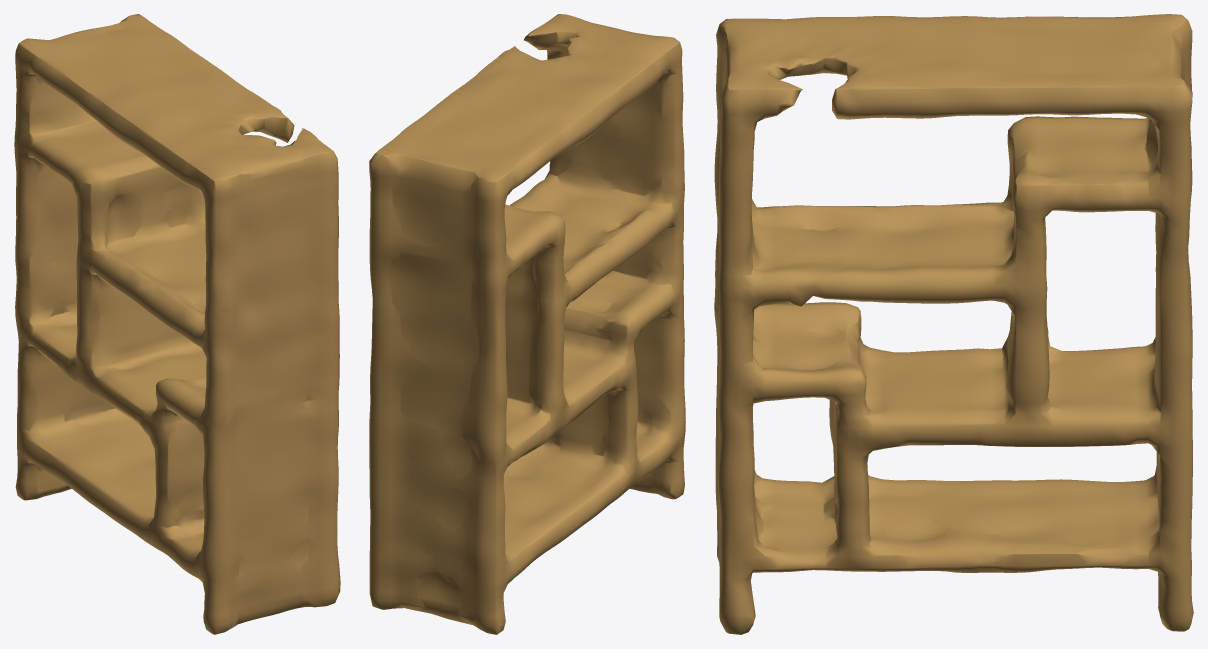
File: bookshelf.glb
The picture shows the model from 3 angles, left to right: view 1: azimuth 30°, elevation 25°; view 2: azimuth 150°, elevation 25°; view 3: azimuth 270°, elevation 25°; orthographic projection. The views are drawn at different scales.
Visible parts, largest first — view 1: LivingRoom-31397; view 2: LivingRoom-31397; view 3: LivingRoom-31397.
Boxes of the visible parts, bbox=[...] form: LivingRoom-31397: bbox=[14, 14, 340, 634]; LivingRoom-31397: bbox=[369, 14, 685, 634]; LivingRoom-31397: bbox=[714, 14, 1193, 634].
Size of what is drawn, in the model's own units: 0.2551 by 0.7944 by 0.6257.
